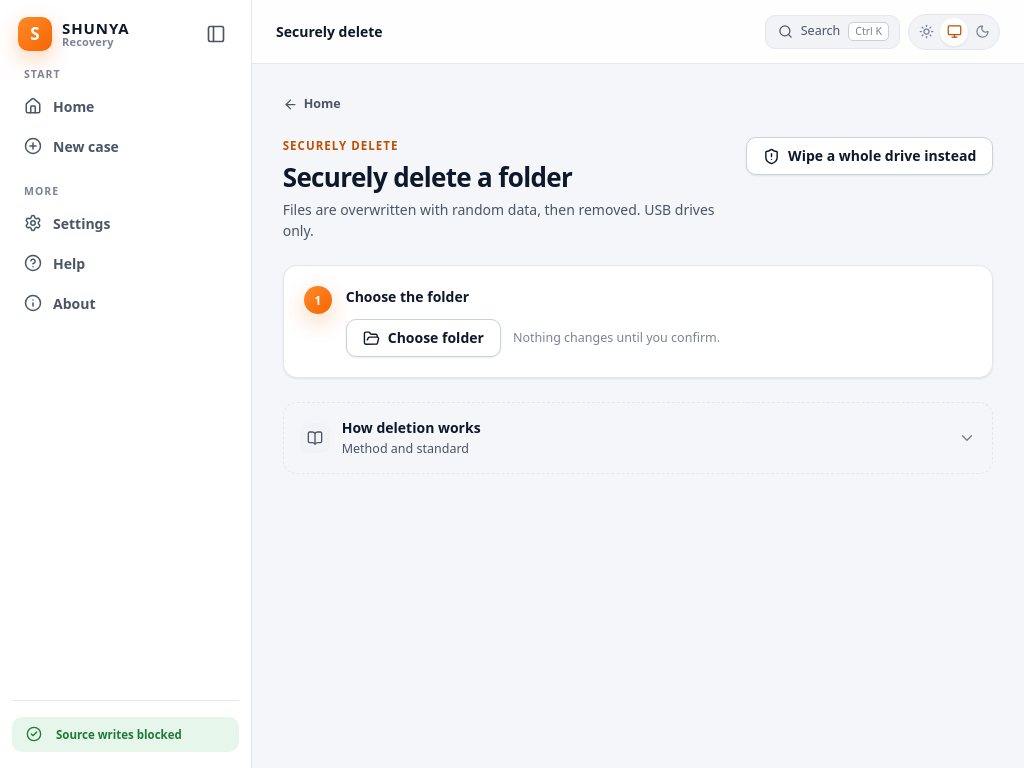
NewDeletionPage › explains a refused folder in plain language instead of crashing
Click the button "Choose folder" at (423, 338), box 346,319 -> 501,357
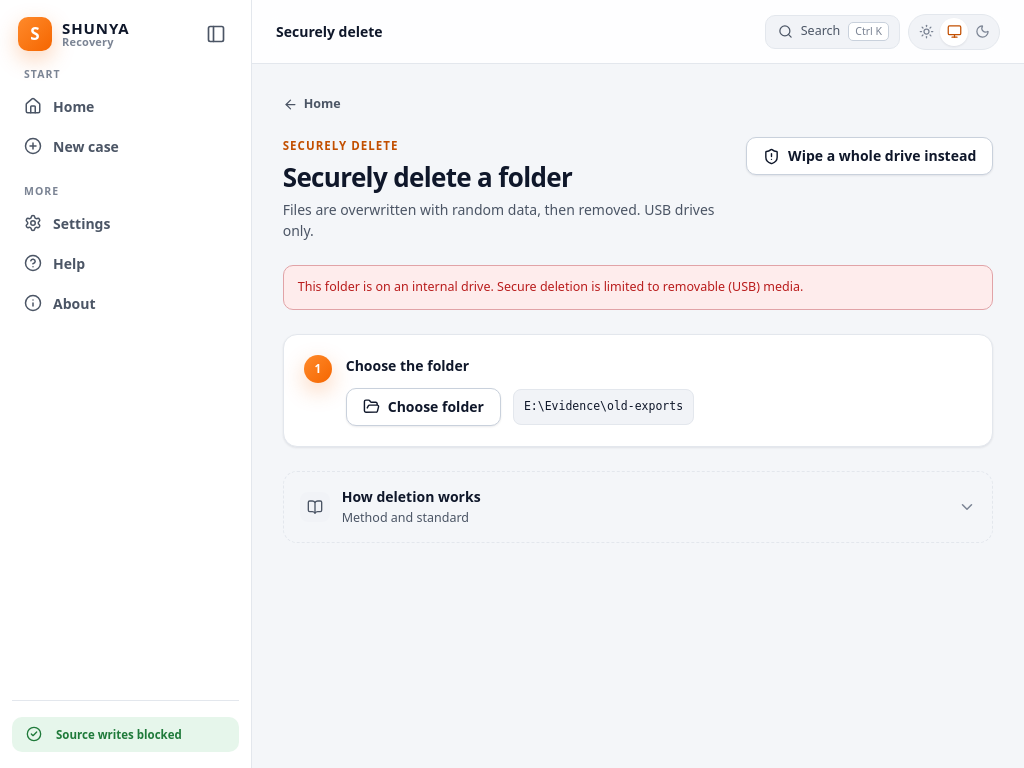
Expected: the 1st message shows "internal drive", 298,278 -> 803,295
